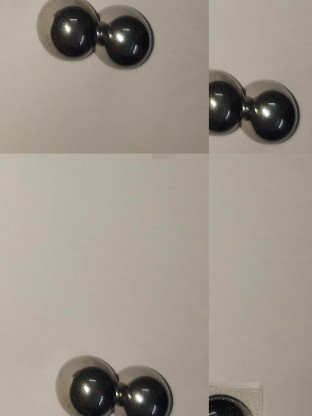ironball: (92, 2, 159, 71), (31, 0, 97, 66), (240, 75, 300, 146), (54, 351, 118, 414), (116, 357, 182, 416), (205, 66, 247, 138), (209, 385, 263, 415)
